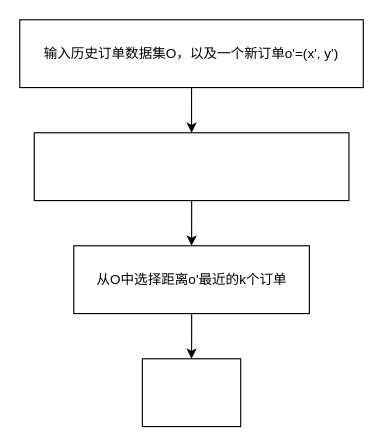
Image size: 383x446. Some labels were removed from this diagram. The shapes that lost their labels are listed below. From the top down, each one's centre as x and y in pixels, then its label:
At point 191,166: "计算o'和O中的每一个订单(x,y)的距离d(x',x)".
At point 191,392: "输出y'".
